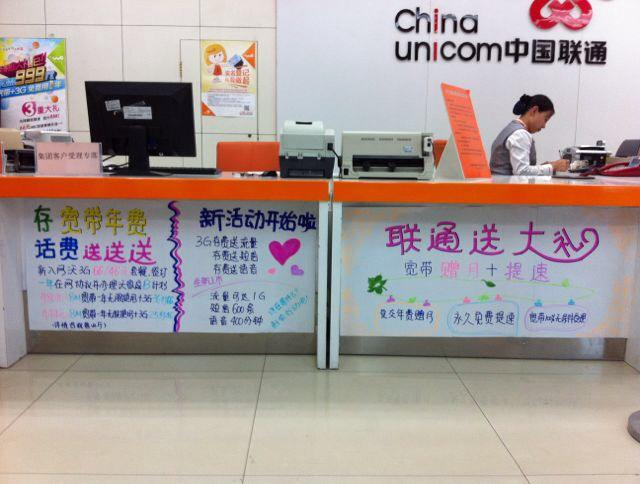bill: (342, 203, 637, 339), (23, 200, 176, 333), (170, 201, 316, 333)
